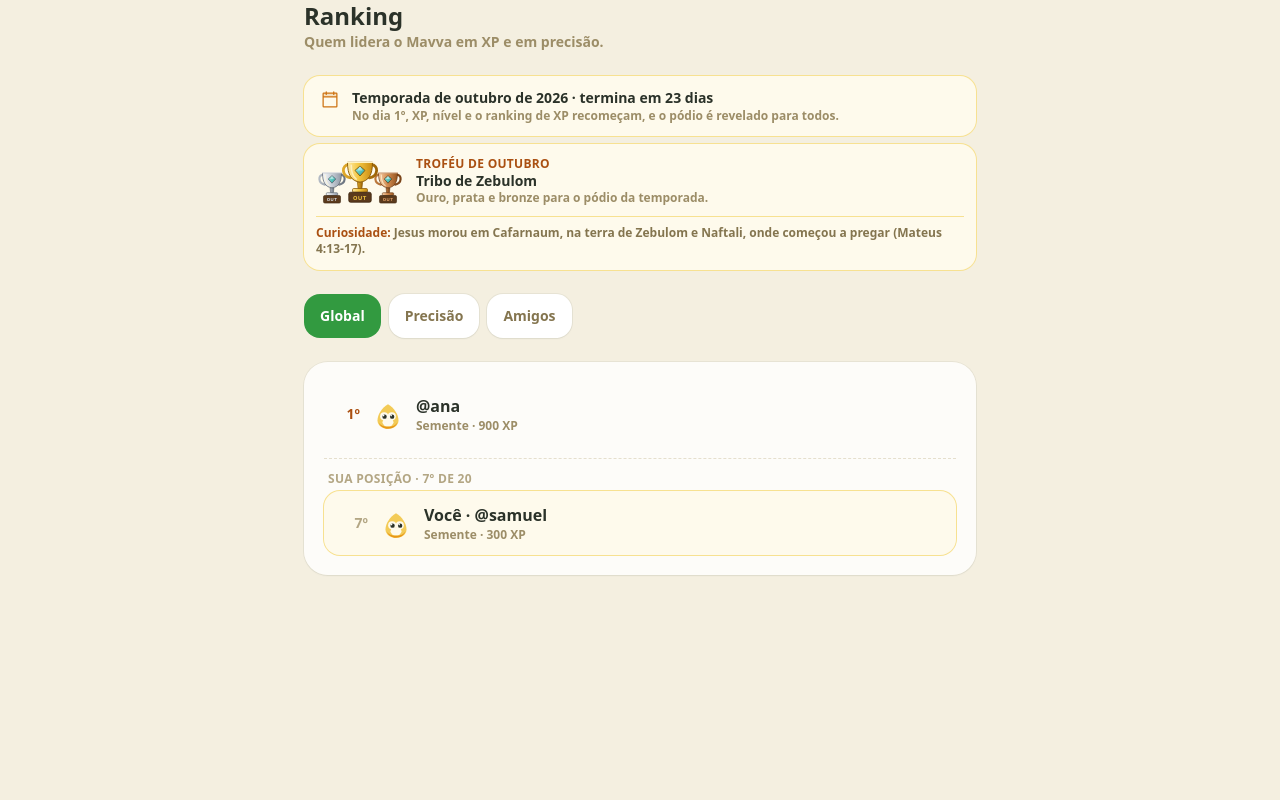
Test: RankingPage › opens the profile of the player tapped in the ranking
The image size is (1280, 800).
Click the button "1º @ana Semente · 900 XP" at [388, 414], box [324, 382, 956, 446]
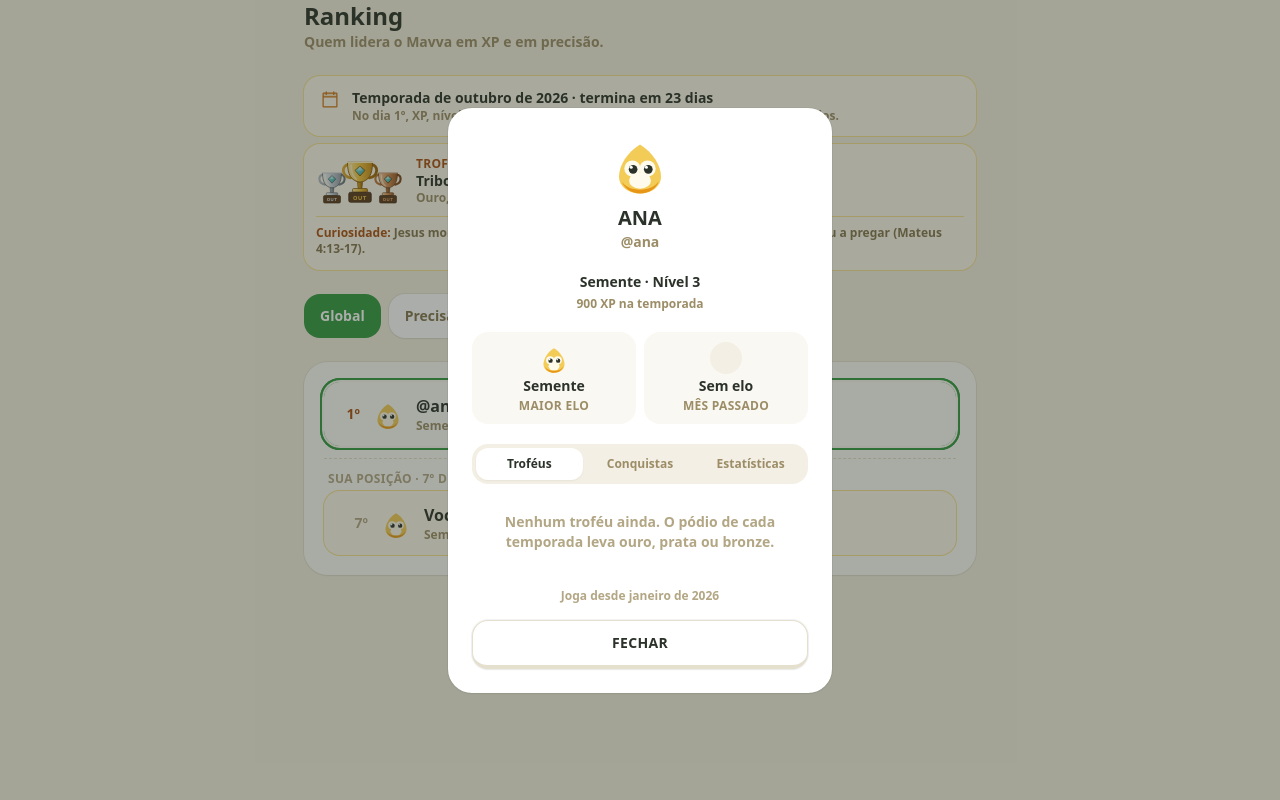
Check: the text "@ana" is shown, box [618, 232, 662, 252]
